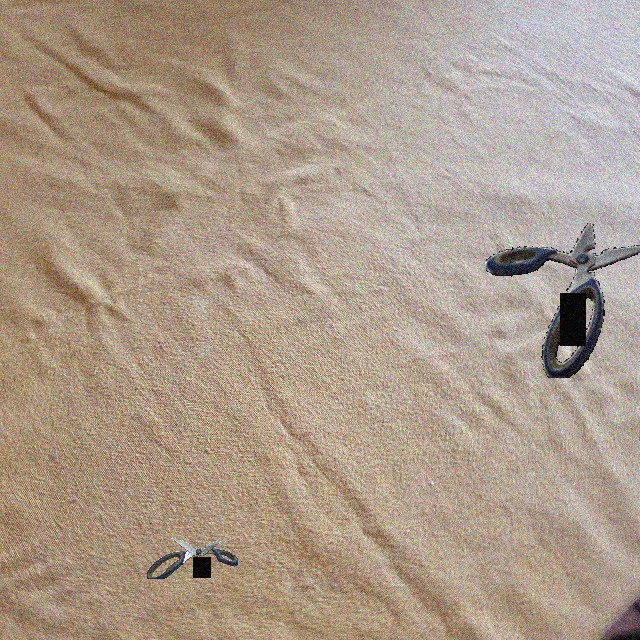scissors: (485, 223, 640, 378), (147, 537, 238, 579)
